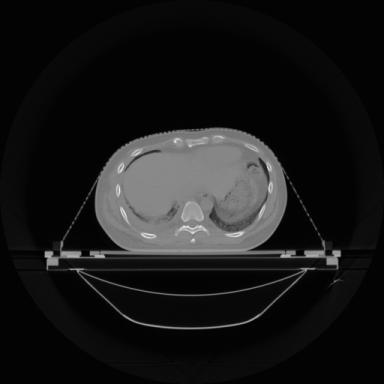body: (96, 128, 286, 251)
cord: (175, 202, 209, 236)
